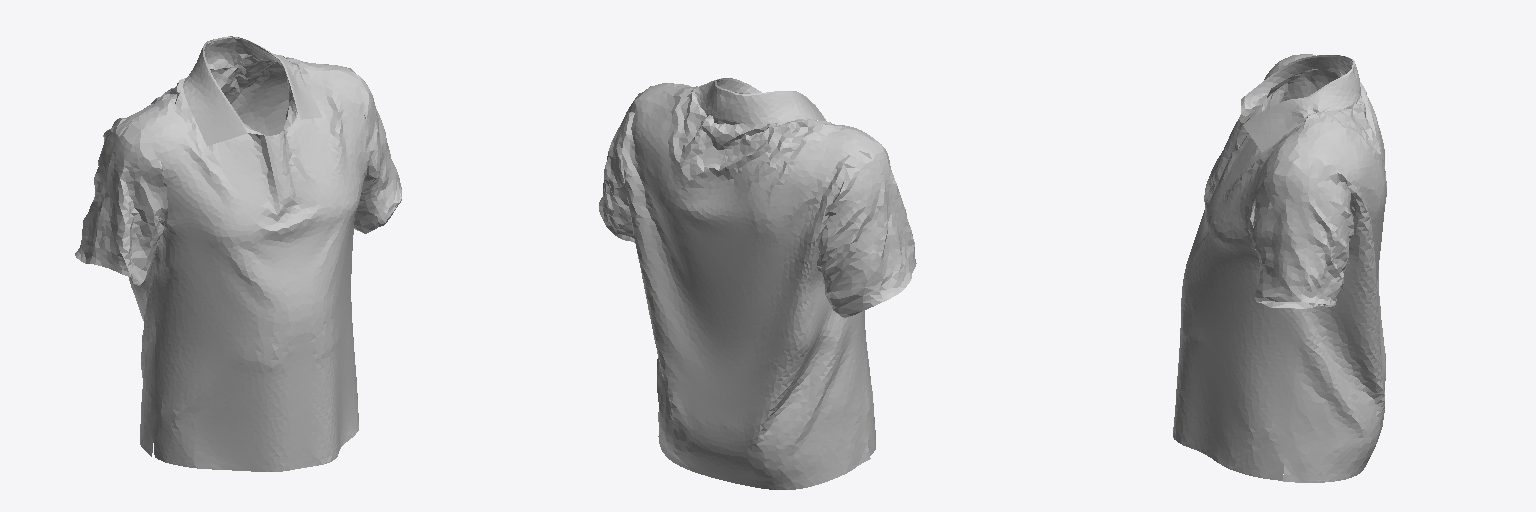
Rendered from Large_Tall.obj.
3 views of the same model, side by side, from view 1: azimuth 30°, elevation 25°; view 2: azimuth 150°, elevation 25°; view 3: azimuth 270°, elevation 25° (orthographic).
Parts seen in each view (by area): view 1: polo3-30.009; view 2: polo3-30.009; view 3: polo3-30.009.
Part boxes in pixels (left/top/right/bottom): polo3-30.009: left=75, top=36, right=401, bottom=471; polo3-30.009: left=599, top=78, right=916, bottom=489; polo3-30.009: left=1173, top=54, right=1386, bottom=482.
Size of the model in its own units: 0.6235 by 0.7385 by 0.3746.